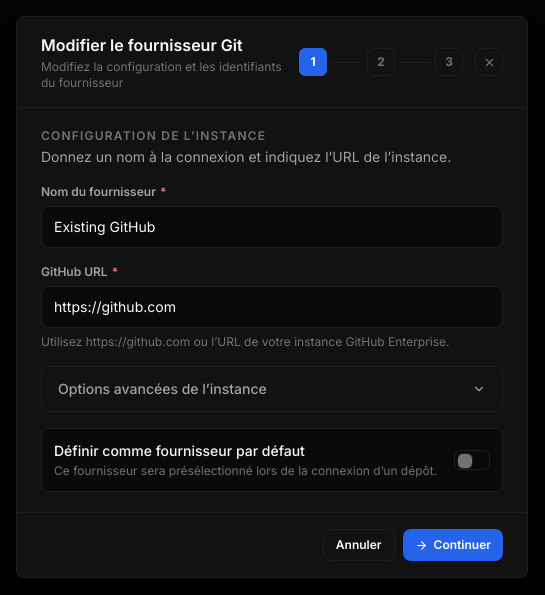
Scenario: AddProviderDialog — complete GitHub PAT flow › re-syncs selectedType and forces PAT when editing an existing GitHub provider with stale oauth/both config
The image size is (545, 595).
Later steps or results of the test are not shown.
Note: Edit mode starts on step 2 (instance) — advance to step 3 (auth method).
What coordinates should you click on to do the following:
click the button "Continuer"
I would click on:
 (453, 545)
Its box is x1=403 y1=529 x2=503 y2=561.
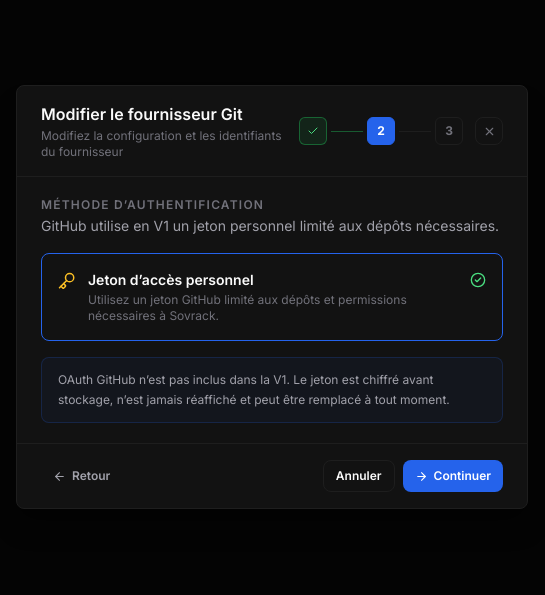
Result: the text "Méthode d’authentification" is shown at x1=41 y1=197 x2=264 y2=212
